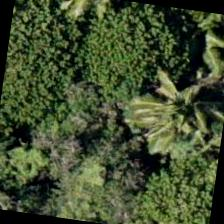Kelapa_Sawit: (116, 70, 218, 172), (125, 65, 223, 168)
